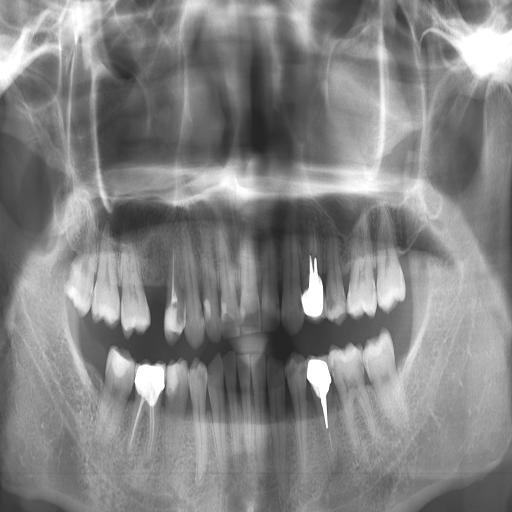Wisdom teeth: (66, 255, 97, 316)
